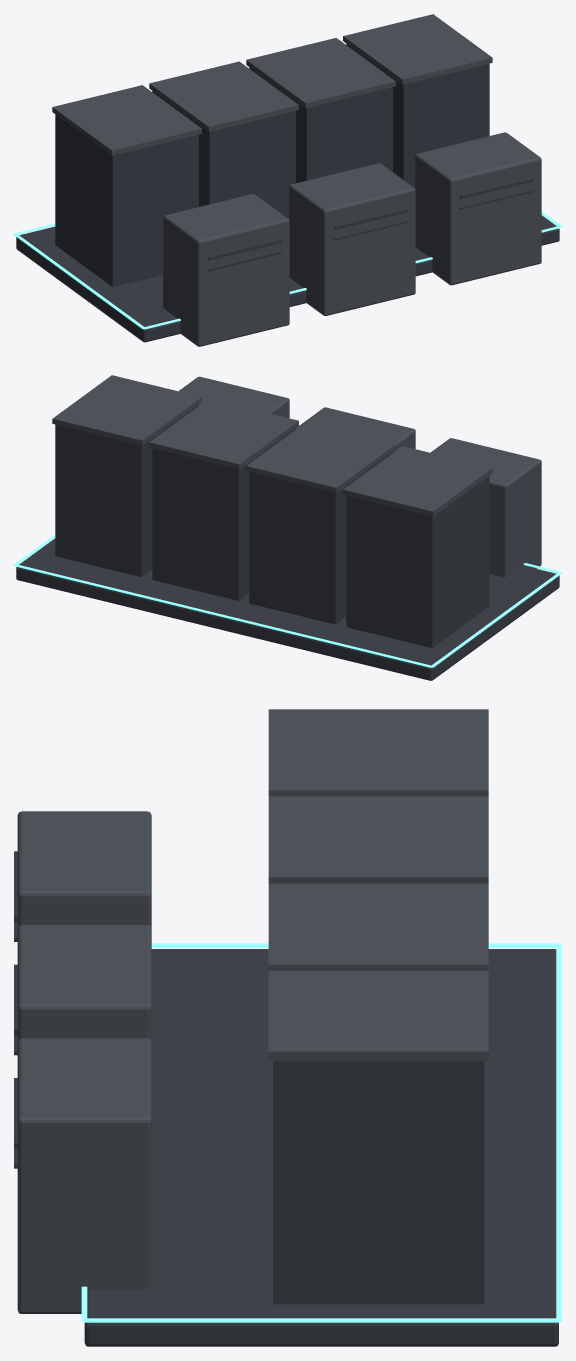
File: storage_container.glb
The picture shows the model from 3 angles, top to bottom: view 1: azimuth 30°, elevation 25°; view 2: azimuth 150°, elevation 25°; view 3: azimuth 270°, elevation 25°; orthographic projection. The views are drawn at different scales.
Parts seen in each view (by area): view 1: part_cab_frame_0, part_switch_2, part_switch_0, part_switch_1, part_cab_frame_1, part_cab_frame_3, part_cab_frame_2, part_base, part_cab_roof_0, part_cab_roof_1, part_cab_roof_3, part_cab_roof_2 (+1 smaller); view 2: part_cab_frame_0, part_base, part_cab_frame_3, part_cab_frame_2, part_cab_frame_1, part_switch_0, part_cab_roof_1, part_cab_roof_2, part_cab_roof_0, part_cab_roof_3, part_switch_1, part_switch_2 (+2 smaller); view 3: part_base, part_cab_frame_3, part_switch_2, part_cab_roof_3, part_cab_roof_1, part_cab_roof_0, part_cab_roof_2, part_switch_1, part_switch_0, part_base_outline_z1, part_base_outline_x1, part_base_outline_z0.
Boxes of the visible parts, x1=… form: part_cab_frame_0: x1=55, y1=114, x2=198, y2=286; part_switch_2: x1=415, y1=132, x2=541, y2=285; part_switch_0: x1=163, y1=194, x2=289, y2=346; part_switch_1: x1=289, y1=163, x2=415, y2=315; part_cab_frame_1: x1=152, y1=91, x2=295, y2=218; part_cab_frame_3: x1=346, y1=44, x2=489, y2=187; part_cab_frame_2: x1=249, y1=67, x2=392, y2=183; part_base: x1=16, y1=215, x2=559, y2=342; part_cab_roof_0: x1=52, y1=85, x2=201, y2=155; part_cab_roof_1: x1=149, y1=61, x2=298, y2=131; part_cab_roof_3: x1=343, y1=14, x2=492, y2=84; part_cab_roof_2: x1=246, y1=38, x2=395, y2=108; part_cab_frame_0: x1=346, y1=475, x2=489, y2=648; part_base: x1=16, y1=538, x2=559, y2=680; part_cab_frame_3: x1=55, y1=404, x2=198, y2=577; part_cab_frame_2: x1=152, y1=428, x2=295, y2=600; part_cab_frame_1: x1=249, y1=452, x2=392, y2=624; part_switch_0: x1=430, y1=438, x2=541, y2=577; part_cab_roof_1: x1=246, y1=422, x2=395, y2=492; part_cab_roof_2: x1=149, y1=399, x2=298, y2=469; part_cab_roof_0: x1=343, y1=446, x2=492, y2=516; part_cab_roof_3: x1=52, y1=375, x2=201, y2=445; part_switch_1: x1=296, y1=407, x2=415, y2=452; part_switch_2: x1=179, y1=376, x2=289, y2=418; part_base: x1=84, y1=949, x2=558, y2=1346; part_cab_frame_3: x1=273, y1=1061, x2=484, y2=1304; part_switch_2: x1=17, y1=1038, x2=151, y2=1313; part_cab_roof_3: x1=268, y1=970, x2=488, y2=1061; part_cab_roof_1: x1=268, y1=796, x2=488, y2=883; part_cab_roof_0: x1=268, y1=709, x2=488, y2=796; part_cab_roof_2: x1=268, y1=883, x2=488, y2=970; part_switch_1: x1=17, y1=925, x2=151, y2=1041; part_switch_0: x1=17, y1=811, x2=151, y2=927; part_base_outline_z1: x1=84, y1=1318, x2=558, y2=1322; part_base_outline_x1: x1=556, y1=944, x2=561, y2=1321; part_base_outline_z0: x1=151, y1=943, x2=558, y2=947.
Bounding box in the file's own units: 8.66 × 3 × 5.31.
